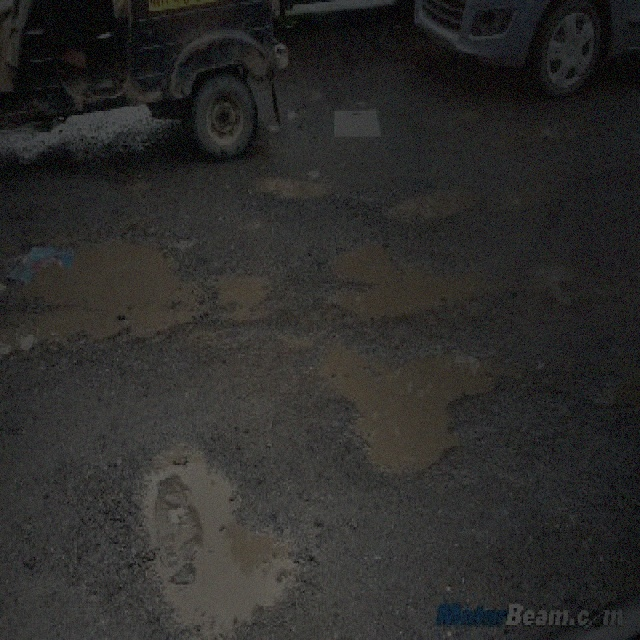pothole: (123, 427, 304, 636), (0, 220, 208, 360), (310, 331, 500, 482), (323, 235, 496, 318), (388, 177, 482, 222), (210, 262, 275, 320), (588, 345, 638, 414), (253, 168, 334, 202)
